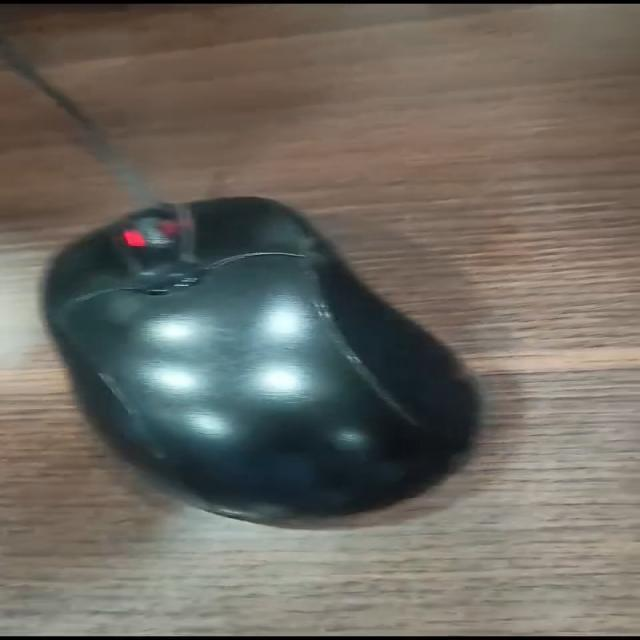Mouse: (11, 171, 560, 554)
